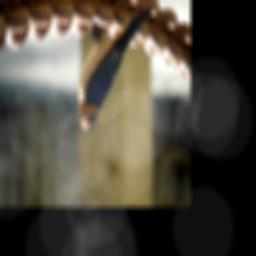Swallow: (77, 0, 163, 131)
